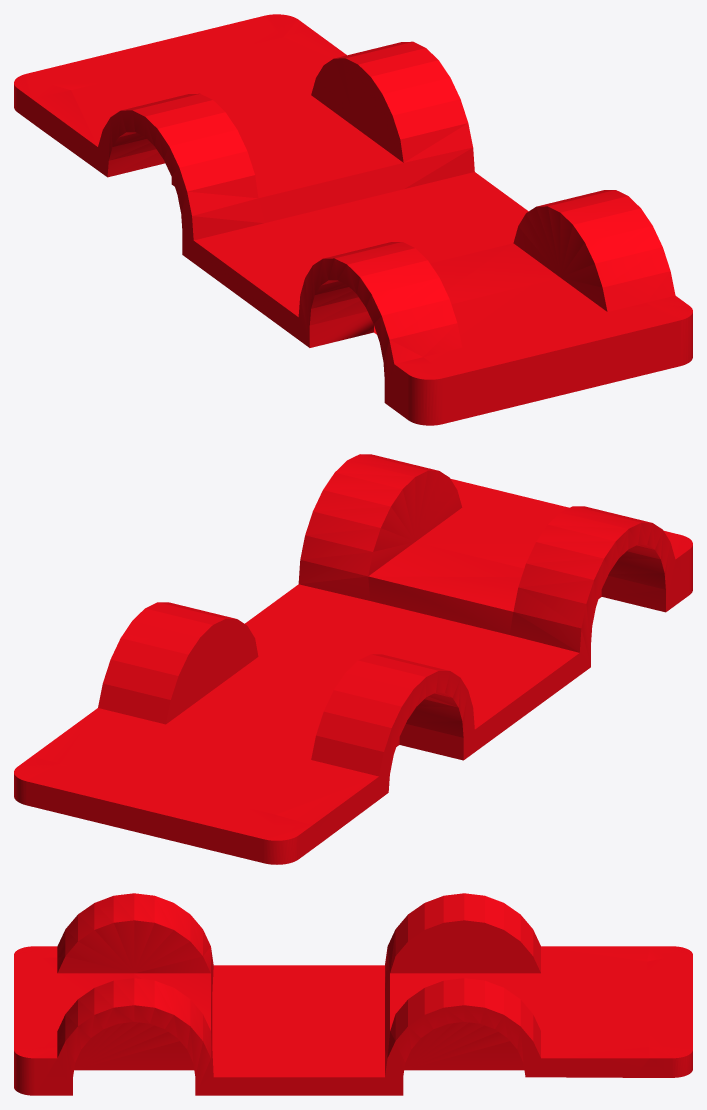
Rendered from Medium Truck Chassis.fbx.
3 views of the same model, one above another, from view 1: azimuth 30°, elevation 25°; view 2: azimuth 150°, elevation 25°; view 3: azimuth 270°, elevation 25° (orthographic). The views are drawn at different scales.
Visible parts, largest first — view 1: Medium Truck Chassis; view 2: Medium Truck Chassis; view 3: Medium Truck Chassis.
Part boxes in pixels (x1,y1,x2,y2): Medium Truck Chassis: [14, 14, 692, 425]; Medium Truck Chassis: [14, 454, 692, 864]; Medium Truck Chassis: [14, 893, 692, 1095].
Size of the model in its own units: 130 by 49 by 333.
